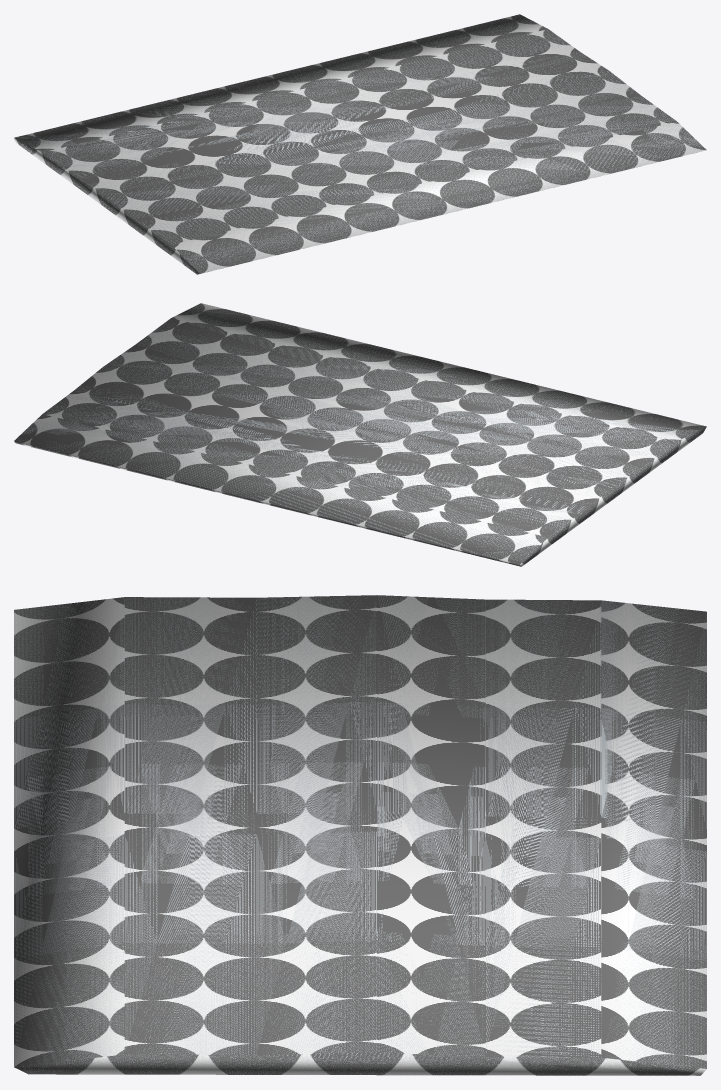
File: blanket.fbx
3 views of the same model, one above another, from view 1: azimuth 30°, elevation 25°; view 2: azimuth 150°, elevation 25°; view 3: azimuth 270°, elevation 25° (orthographic). The views are drawn at different scales.
Parts seen in each view (by area): view 1: SketchUp; view 2: SketchUp; view 3: SketchUp.
Boxes of the visible parts, left/top/right/bottom form: SketchUp: left=14, top=14, right=706, bottom=274; SketchUp: left=14, top=303, right=706, bottom=566; SketchUp: left=14, top=595, right=706, bottom=1075.
Size of the model in its own units: 215 by 5.11 by 138.
